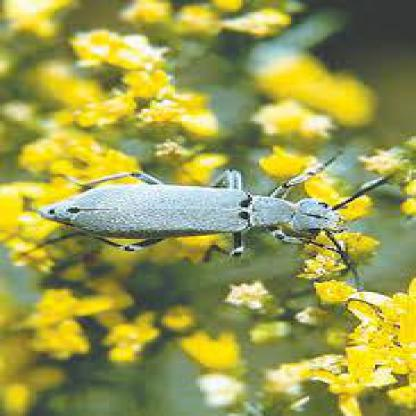blister beetle: (36, 155, 394, 295)
